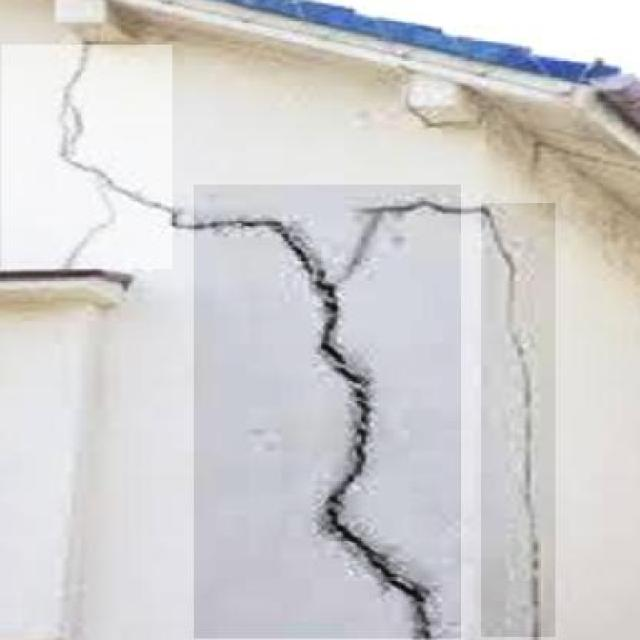Crack: (195, 189, 460, 640), (32, 32, 192, 266), (482, 204, 556, 640)
